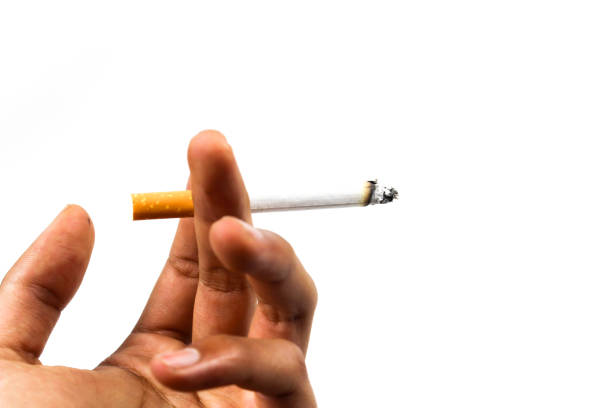cigarette: (124, 174, 397, 222)
